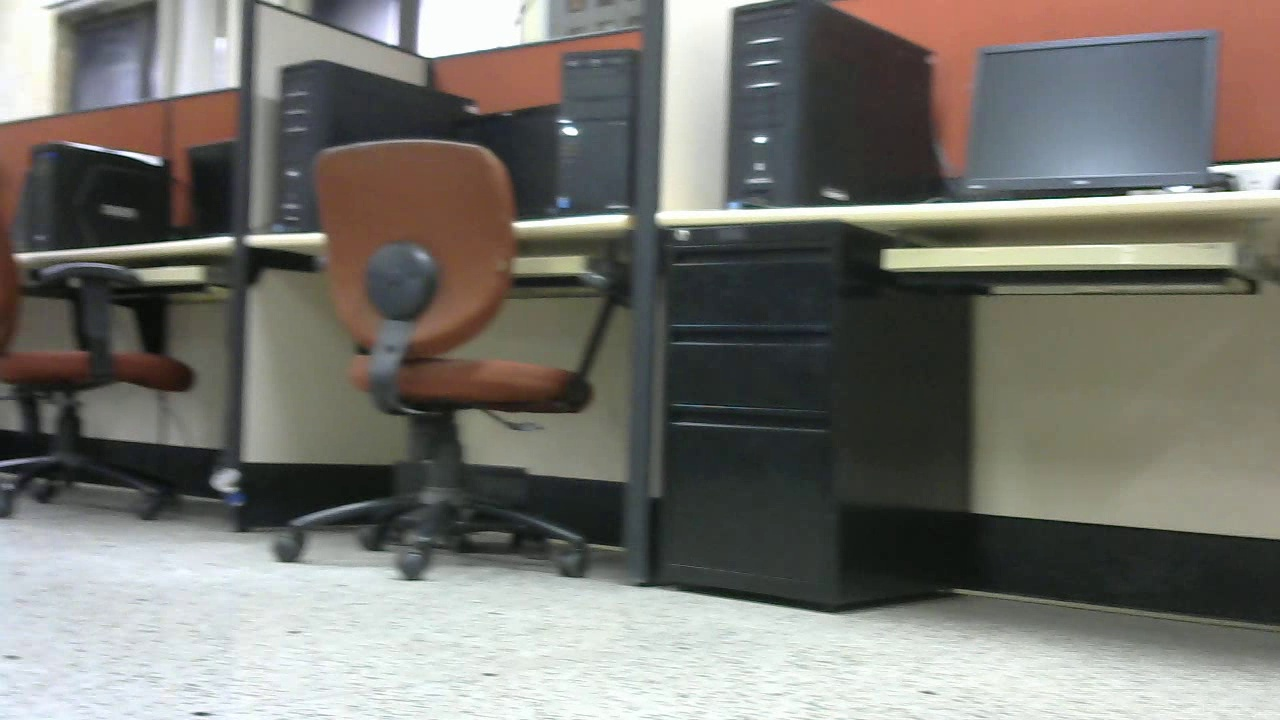chair: (272, 139, 629, 580), (2, 196, 196, 528)
